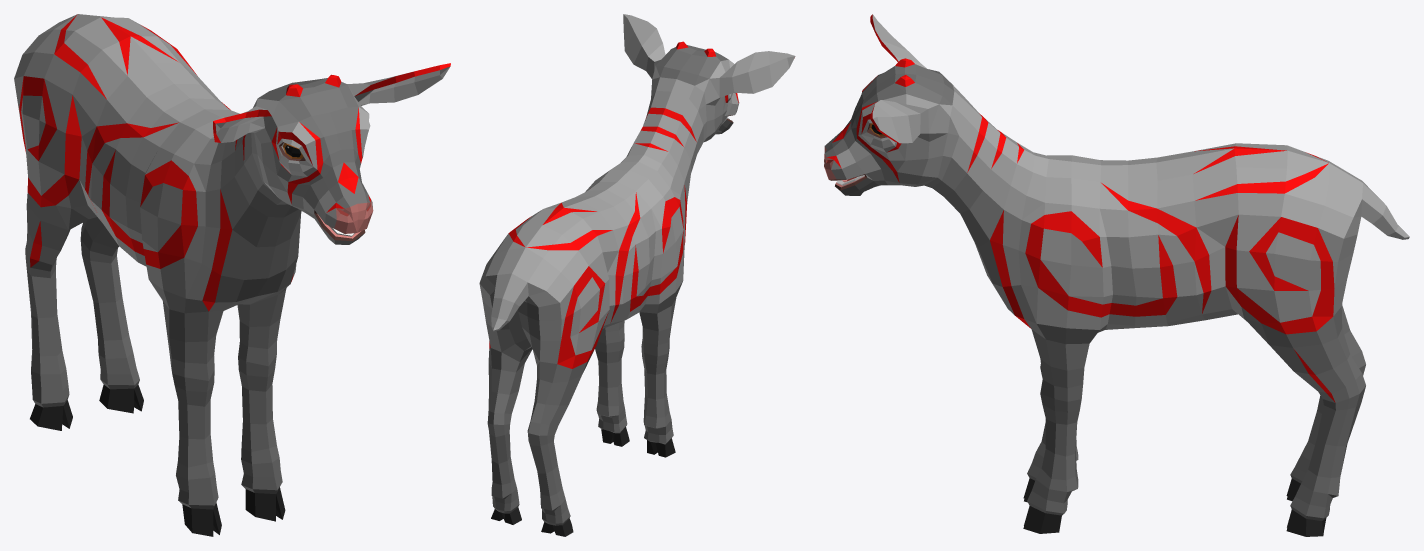
Rendered from LowPoly_Goatling_10.obj.
3 renders of one model, left to right at view 1: azimuth 30°, elevation 25°; view 2: azimuth 150°, elevation 25°; view 3: azimuth 270°, elevation 25°, orthographic. The views are drawn at different scales.
Visible parts, largest first — view 1: Goatling_10_Cube.012; view 2: Goatling_10_Cube.012; view 3: Goatling_10_Cube.012.
Boxes of the visible parts, left/top/right/bottom form: Goatling_10_Cube.012: left=14, top=14, right=450, bottom=536; Goatling_10_Cube.012: left=479, top=14, right=795, bottom=536; Goatling_10_Cube.012: left=824, top=14, right=1409, bottom=536.
Bounding box in the file's own units: 0.2081 × 0.4165 × 0.4936.
